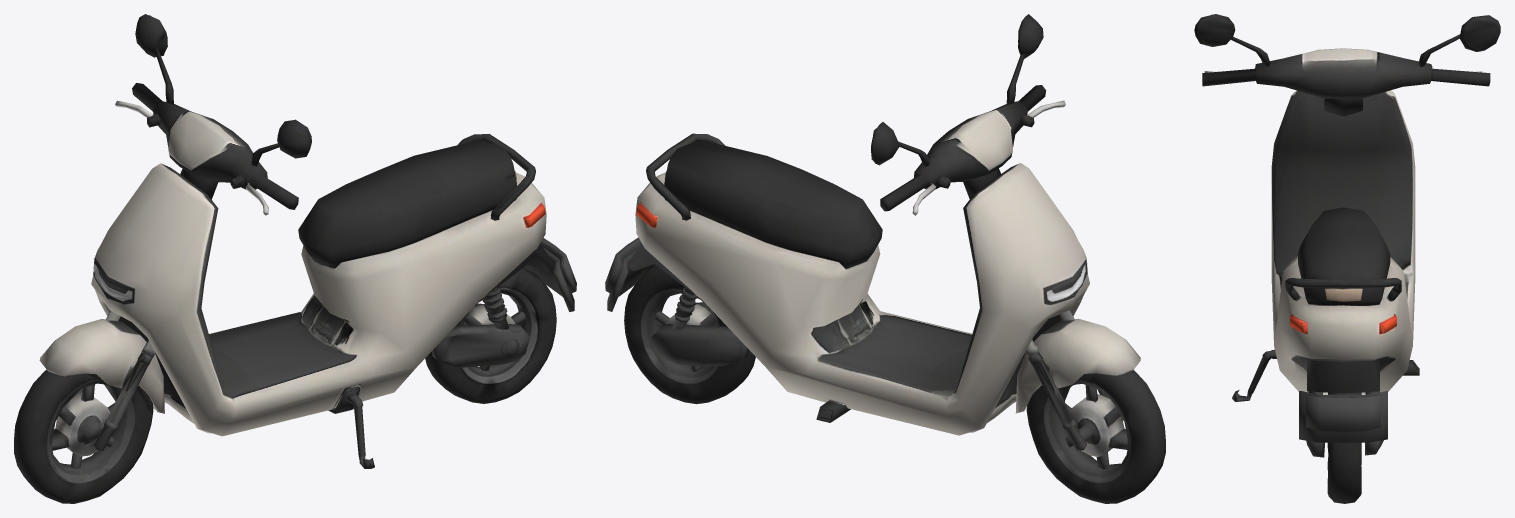
File: prop_scooter-CnNMlqjG.glb
3 views of the same model, side by side, from view 1: azimuth 30°, elevation 25°; view 2: azimuth 150°, elevation 25°; view 3: azimuth 270°, elevation 25° (orthographic). The views are drawn at different scales.
Visible parts, largest first — view 1: tripo_node_7496b372-3e7d-4bc7-afb6-978379f03da8; view 2: tripo_node_7496b372-3e7d-4bc7-afb6-978379f03da8; view 3: tripo_node_7496b372-3e7d-4bc7-afb6-978379f03da8.
Part boxes in pixels (bbox=[...]): tripo_node_7496b372-3e7d-4bc7-afb6-978379f03da8: bbox=[14, 14, 576, 503]; tripo_node_7496b372-3e7d-4bc7-afb6-978379f03da8: bbox=[605, 14, 1165, 503]; tripo_node_7496b372-3e7d-4bc7-afb6-978379f03da8: bbox=[1194, 14, 1500, 503].
Size of the model in its own units: 0.998 by 0.6894 by 0.5254.
1 material, 1 textured.
